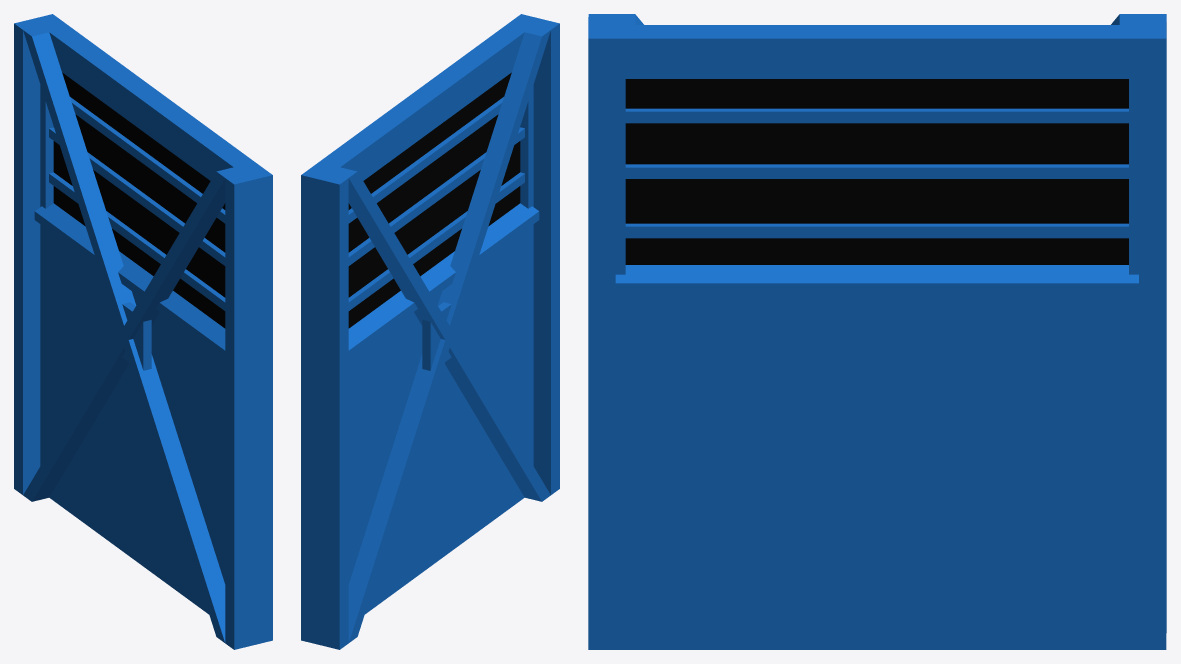
File: SM_mini_wall.fbx
3 views of the same model, side by side, from view 1: azimuth 30°, elevation 25°; view 2: azimuth 150°, elevation 25°; view 3: azimuth 270°, elevation 25° (orthographic). The views are drawn at different scales.
Visible parts, largest first — view 1: mini_wall; view 2: mini_wall; view 3: mini_wall.
Part boxes in pixels (<box>): mini_wall: <box>14,14,272,649</box>; mini_wall: <box>301,14,559,649</box>; mini_wall: <box>588,14,1166,649</box>.
Size of the model in its own units: 36.09 by 350 by 300.
